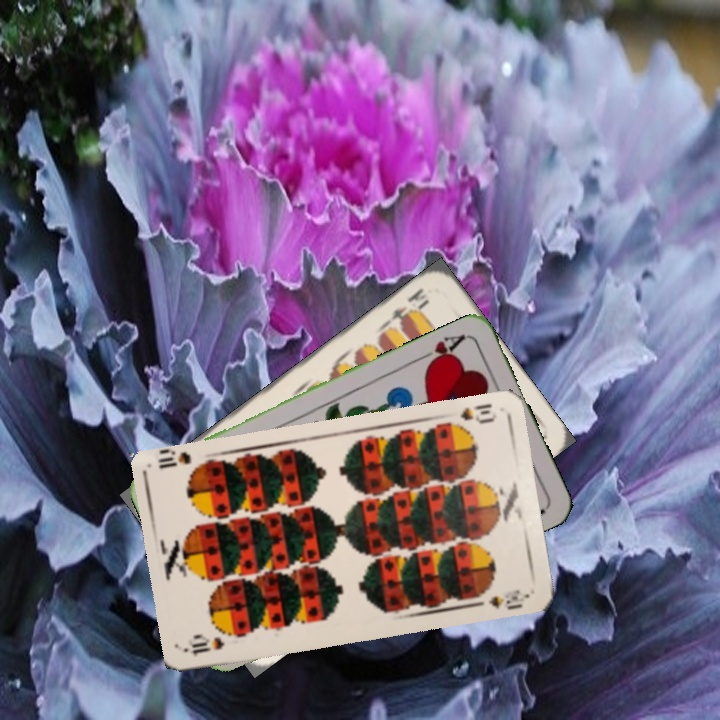E10: (383, 284, 432, 330)
HA: (413, 330, 468, 372)
S10: (441, 399, 499, 431), (184, 633, 227, 658)
